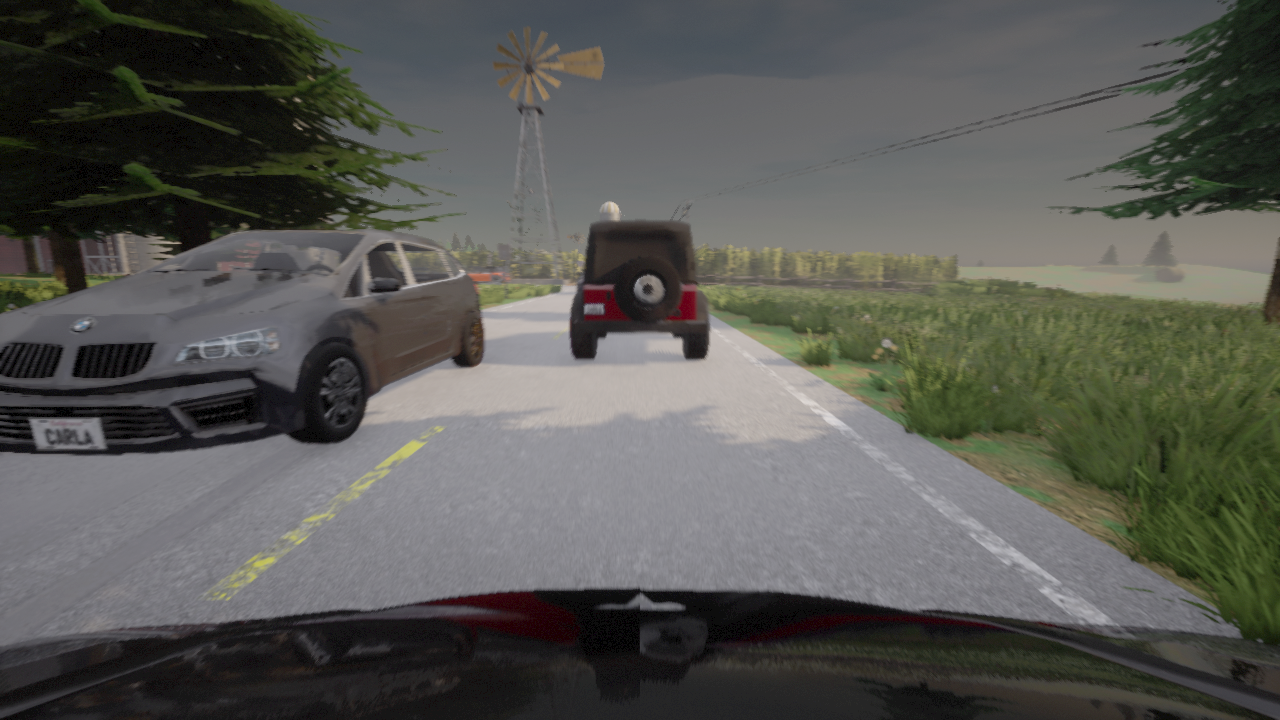cyclist: (0, 588, 1279, 719), (0, 229, 484, 454), (570, 220, 709, 358), (467, 266, 509, 283), (577, 269, 584, 292), (467, 266, 479, 271)
